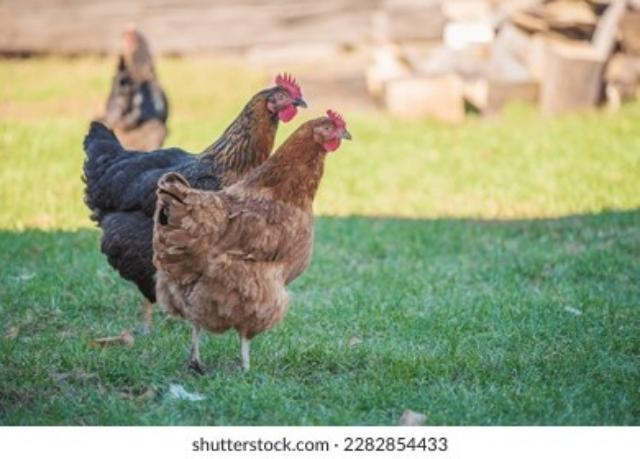Chicken: (84, 72, 307, 335), (154, 107, 353, 368)
